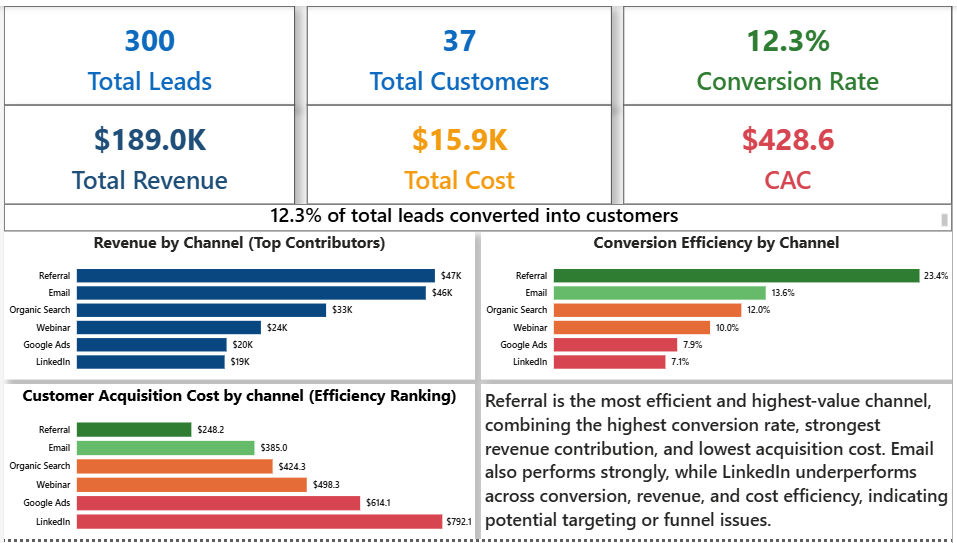

Layout of this report page (visuals, bound fields, positions):
{"tool":"powerbi","page":{"name":"Page 1","canvas":[1280,720],"ordinal":0},"visuals":[{"type":"card","fields":{"Values":["marketing_data.Total Leads"]},"box":[0,0,392.9,133.7],"z":0},{"type":"card","fields":{"Values":["marketing_data.Total Customers"]},"box":[409.1,0,411.1,133.7],"z":1000},{"type":"card","fields":{"Values":["marketing_data.Conversion Rate"]},"box":[836.5,0,443.5,133.7],"z":2000},{"type":"card","fields":{"Values":["marketing_data.Total Revenue"]},"box":[0,133.7,392.9,133.7],"z":3000},{"type":"card","fields":{"Values":["marketing_data.Total Cost"]},"box":[409.1,133.7,411.1,133.7],"z":4000},{"type":"card","fields":{"Values":["marketing_data.CAC"]},"box":[836.5,133.7,443.5,133.7],"z":5000},{"type":"clusteredBarChart","title":"Revenue by Channel (Top Contributors)","fields":{"Category":["marketing_data.Channel"],"Y":["Sum(marketing_data.Revenue)"]},"box":[0,303.8,635.9,200.5],"z":6000},{"type":"clusteredBarChart","title":"Conversion Efficiency by Channel ","fields":{"Category":["marketing_data.Channel"],"Y":["marketing_data.Conversion Rate"]},"box":[644.1,303.8,635.9,200.5],"z":7000},{"type":"clusteredBarChart","title":"Customer Acquisition Cost by channel (Efficiency Ranking)","fields":{"Category":["marketing_data.Channel"],"Y":["marketing_data.CAC"]},"box":[0,510.4,635.9,210.6],"z":8000},{"type":"textbox","box":[644.1,510.4,635.9,210.6],"z":9000},{"type":"textbox","box":[0,267.3,1280,36.5],"z":10000}]}

Visuals, with their boxes in screenshot pixels (x1, y1, x2, y2), scaled from the page's 1280x720 canvas onto the 957x543 screenshot:
card - marketing_data.Total Leads: 0/0/294/101
card - marketing_data.Total Customers: 306/0/613/101
card - marketing_data.Conversion Rate: 625/0/956/101
card - marketing_data.Total Revenue: 0/101/294/202
card - marketing_data.Total Cost: 306/101/613/202
card - marketing_data.CAC: 625/101/956/202
"Revenue by Channel (Top Contributors)" clusteredBarChart: 0/229/475/380
"Conversion Efficiency by Channel " clusteredBarChart: 482/229/956/380
"Customer Acquisition Cost by channel (Efficiency Ranking)" clusteredBarChart: 0/385/475/542
textbox: 482/385/956/542
textbox: 0/202/956/229
